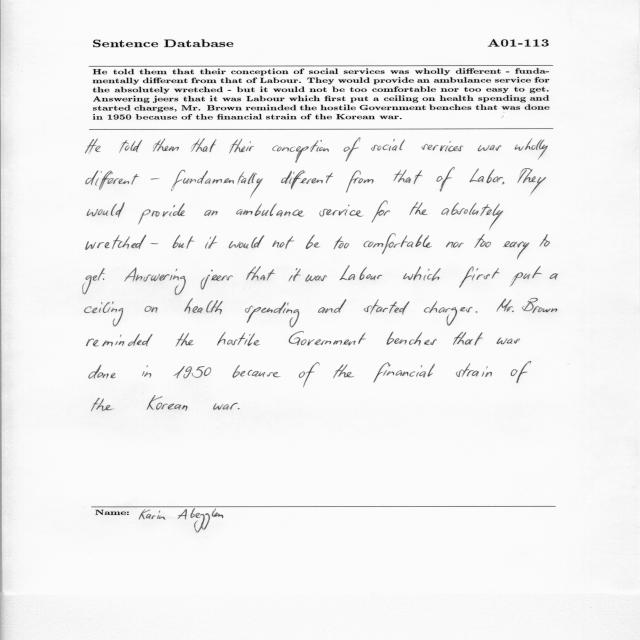word: (171, 170, 263, 198), (124, 267, 186, 295), (442, 202, 504, 229), (363, 234, 432, 254), (245, 302, 299, 327), (272, 140, 329, 163), (373, 363, 435, 383), (424, 301, 473, 326), (289, 332, 366, 346), (86, 170, 139, 190), (281, 170, 333, 190), (138, 203, 185, 225), (85, 302, 124, 327), (236, 203, 304, 217), (459, 266, 500, 288), (86, 235, 146, 250), (87, 334, 153, 347), (517, 168, 546, 195), (386, 331, 437, 346), (364, 299, 410, 315), (514, 139, 548, 160), (146, 395, 188, 411), (200, 270, 233, 290), (340, 266, 383, 281), (510, 266, 542, 286), (184, 298, 223, 314), (233, 365, 281, 378), (346, 171, 374, 193), (217, 332, 260, 346), (83, 268, 105, 294), (87, 203, 125, 218), (403, 266, 441, 281), (319, 205, 364, 217), (522, 298, 557, 313), (299, 362, 320, 387), (470, 169, 504, 184), (456, 363, 492, 377), (436, 167, 455, 192), (503, 241, 529, 259), (173, 366, 211, 378), (229, 236, 264, 249), (422, 141, 463, 152), (511, 361, 531, 383), (246, 266, 275, 281), (344, 138, 361, 162), (371, 139, 405, 151), (394, 170, 423, 184), (318, 299, 346, 313), (453, 332, 483, 345), (372, 201, 390, 222), (89, 365, 116, 379), (191, 138, 216, 152), (229, 139, 254, 153), (153, 139, 179, 152), (173, 235, 195, 249), (119, 140, 142, 153), (91, 398, 114, 411), (334, 365, 355, 379), (273, 236, 295, 249), (175, 333, 194, 347), (409, 202, 428, 215), (85, 139, 101, 154), (474, 234, 491, 248), (496, 299, 514, 312), (306, 235, 320, 249), (334, 237, 349, 250), (213, 403, 238, 410), (496, 338, 520, 345), (205, 236, 217, 249), (289, 268, 301, 281), (305, 275, 327, 282), (478, 145, 502, 151), (539, 234, 550, 247), (446, 241, 464, 248), (142, 365, 151, 378), (145, 306, 158, 313), (204, 210, 218, 216), (550, 273, 559, 280), (150, 178, 159, 180), (151, 243, 159, 244), (502, 182, 505, 184), (103, 278, 105, 280), (476, 311, 478, 313), (237, 408, 240, 409)
